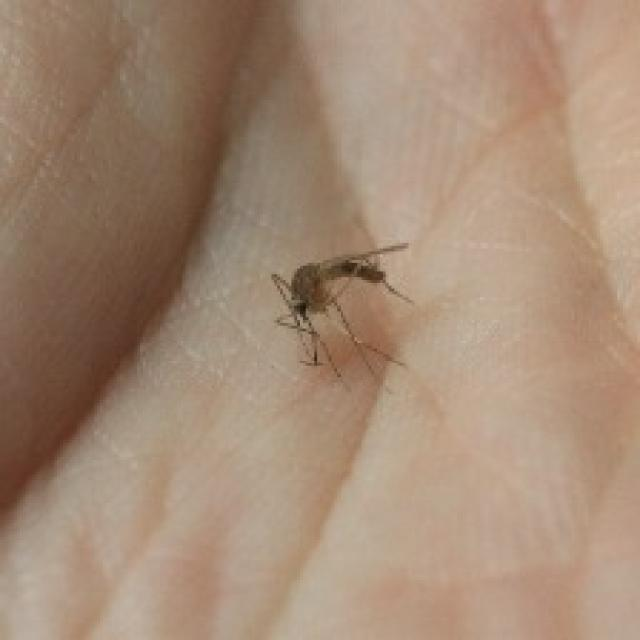culex: (268, 237, 412, 386)
